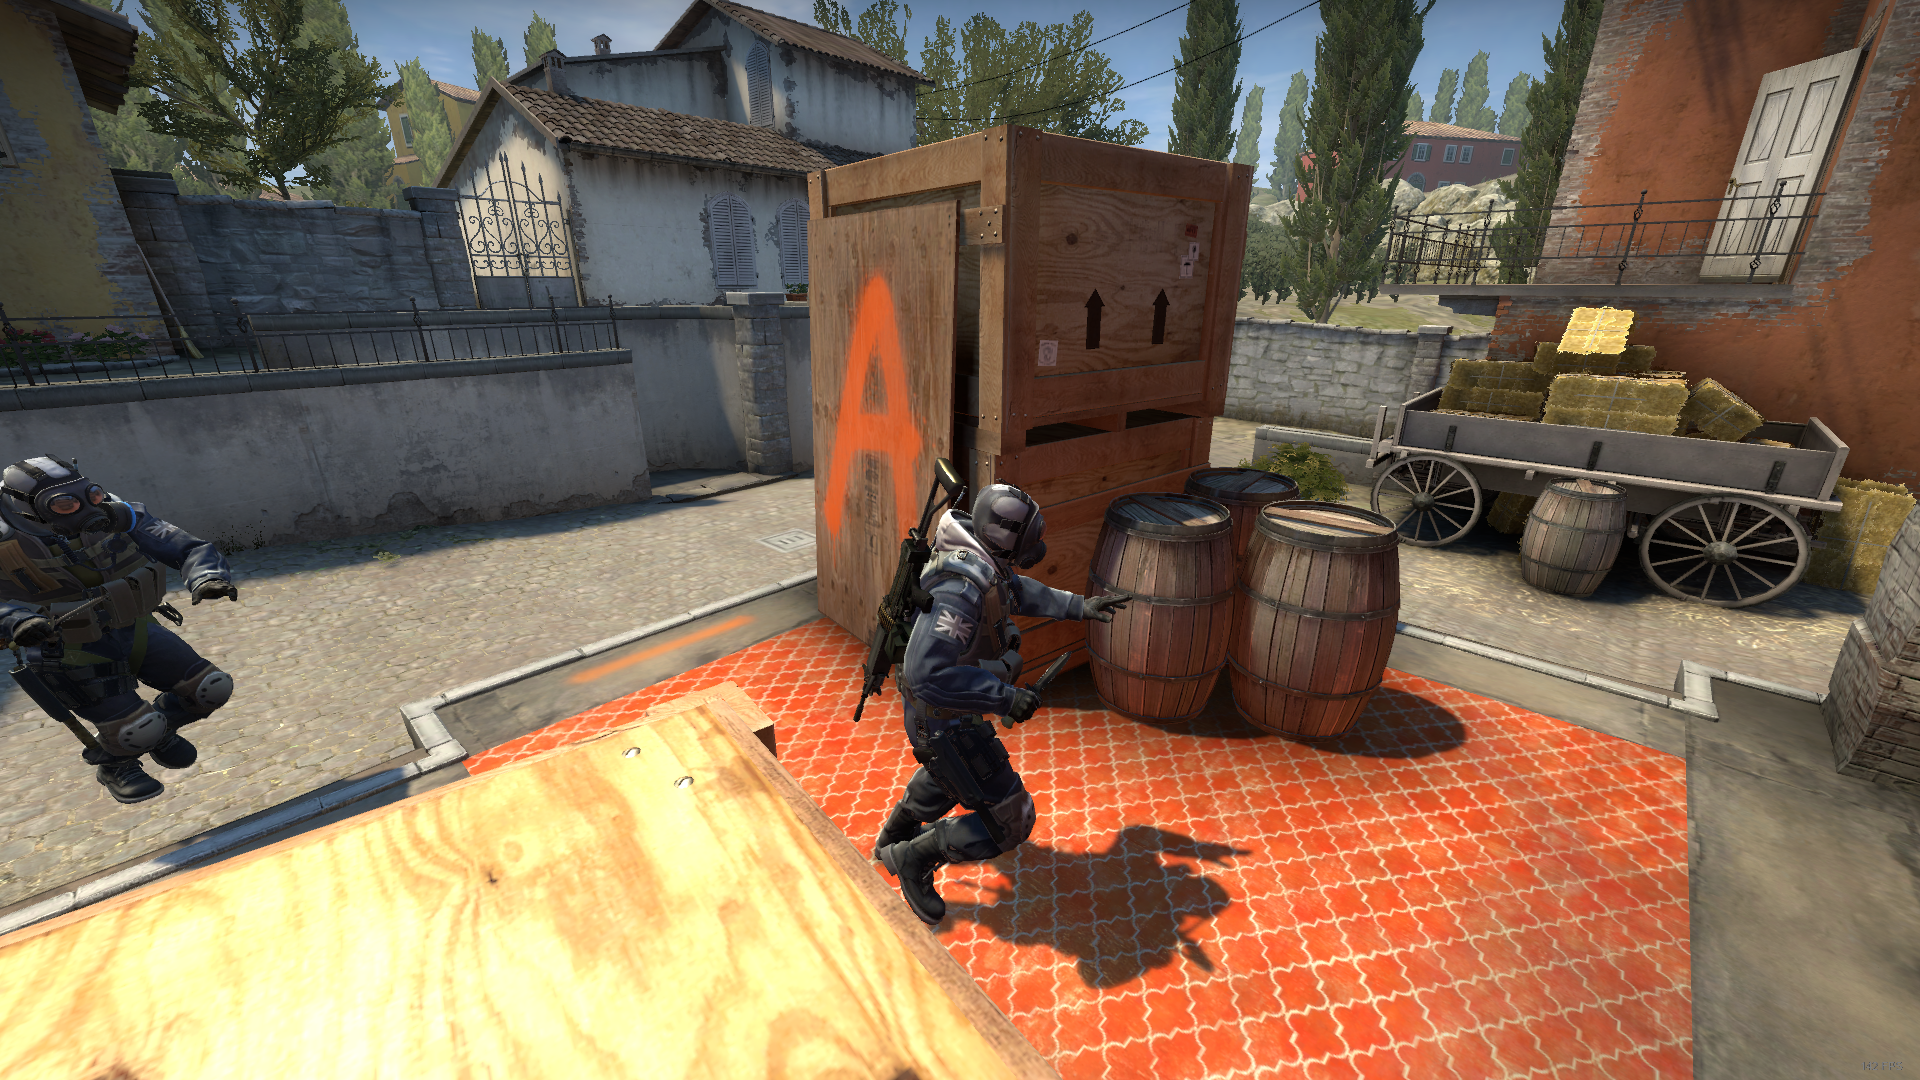ct: (858, 477, 1139, 939), (5, 454, 243, 810)
